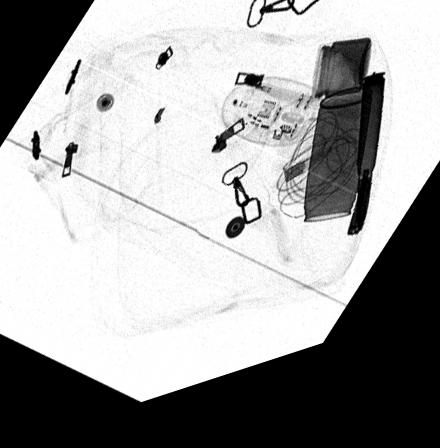Bullet: (353, 96, 384, 254)
